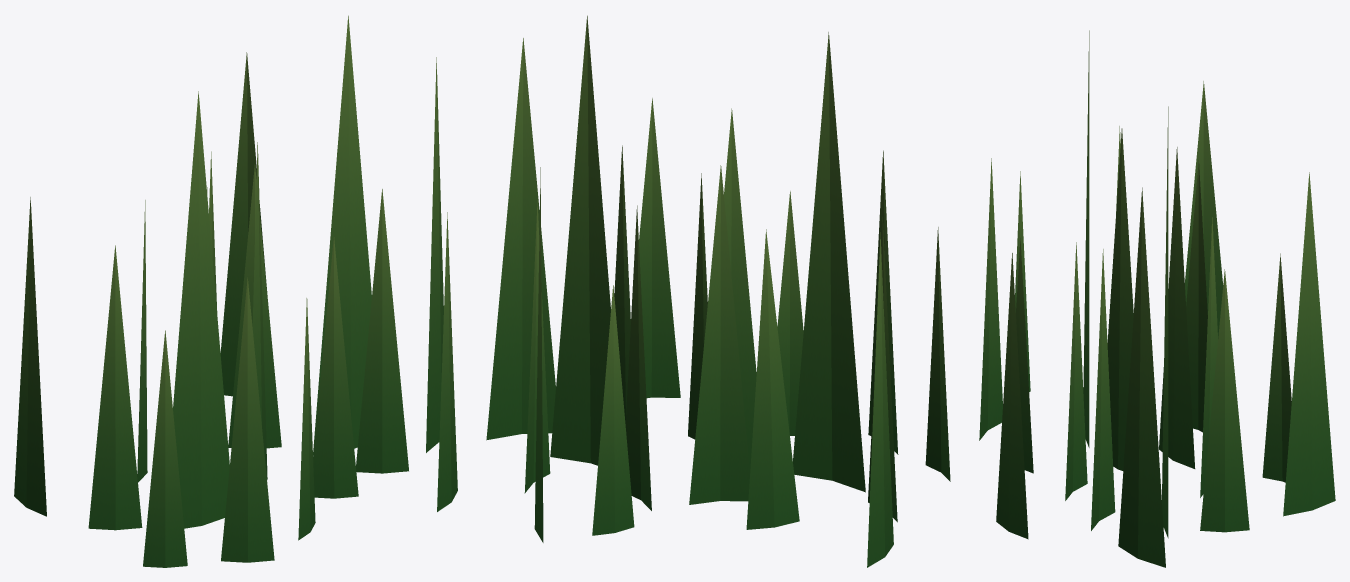
Rendered from Grass_2.fbx.
3 views of the same model, side by side, from view 1: azimuth 30°, elevation 25°; view 2: azimuth 150°, elevation 25°; view 3: azimuth 270°, elevation 25° (orthographic). The views are drawn at different scales.
Visible parts, largest first — view 1: polySurface172; view 2: polySurface172; view 3: polySurface172.
Boxes of the visible parts, x1,y1,x2,y2 form: polySurface172: (14,15,457,567); polySurface172: (486,15,950,567); polySurface172: (979,30,1335,567).
Size of the model in its own units: 74.69 by 77.09 by 59.46.
